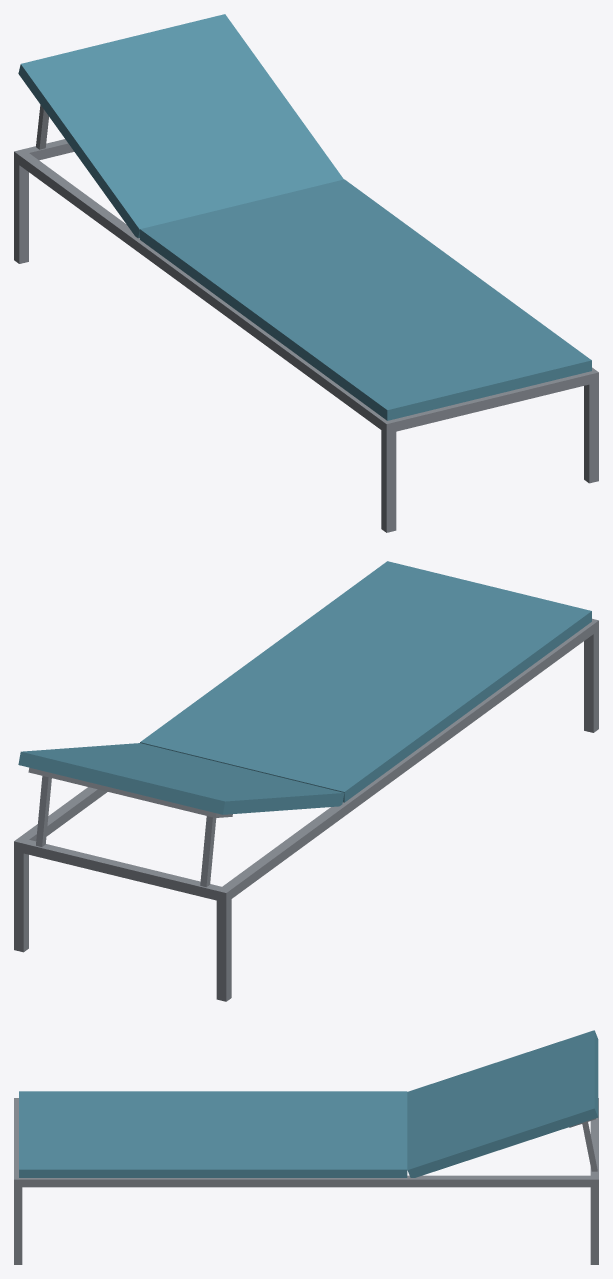
The model's file is Lounger_02.fbx.
3 renders of one model, top to bottom at view 1: azimuth 30°, elevation 25°; view 2: azimuth 150°, elevation 25°; view 3: azimuth 270°, elevation 25°, orthographic. The views are drawn at different scales.
Parts seen in each view (by area): view 1: Lounger_02; view 2: Lounger_02; view 3: Lounger_02.
Part boxes in pixels (left/top/right/bottom): Lounger_02: left=14, top=14, right=598, bottom=532; Lounger_02: left=14, top=561, right=598, bottom=1001; Lounger_02: left=14, top=1030, right=598, bottom=1264.
Bounding box in the file's own units: 68.11 × 60.48 × 207.
